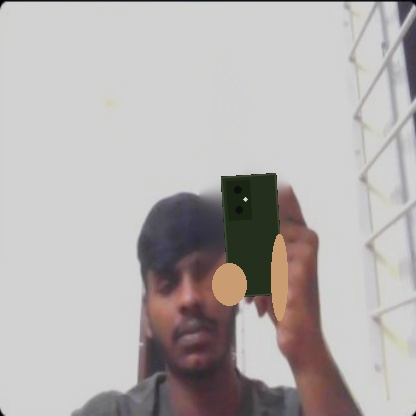cell_phone: (221, 173, 284, 298)
